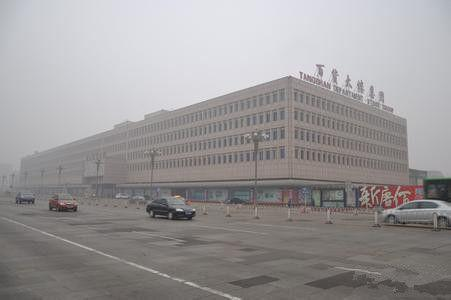car: (378, 198, 451, 228), (145, 195, 197, 221), (48, 192, 79, 212), (14, 190, 35, 205), (223, 196, 247, 206), (128, 194, 145, 204), (114, 192, 129, 199)
